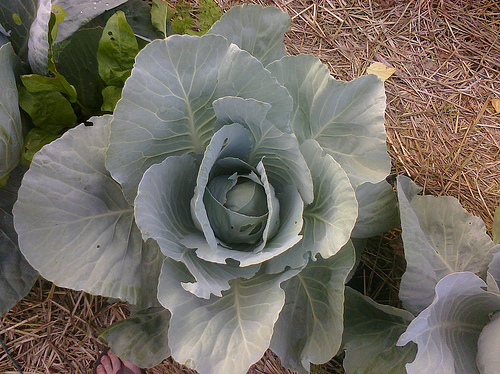cabbage: (10, 2, 404, 373)
